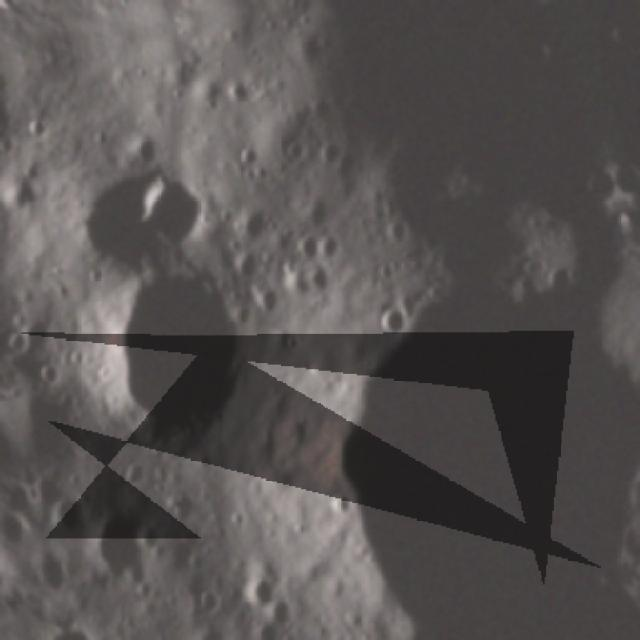crater: (368, 290, 417, 352)
